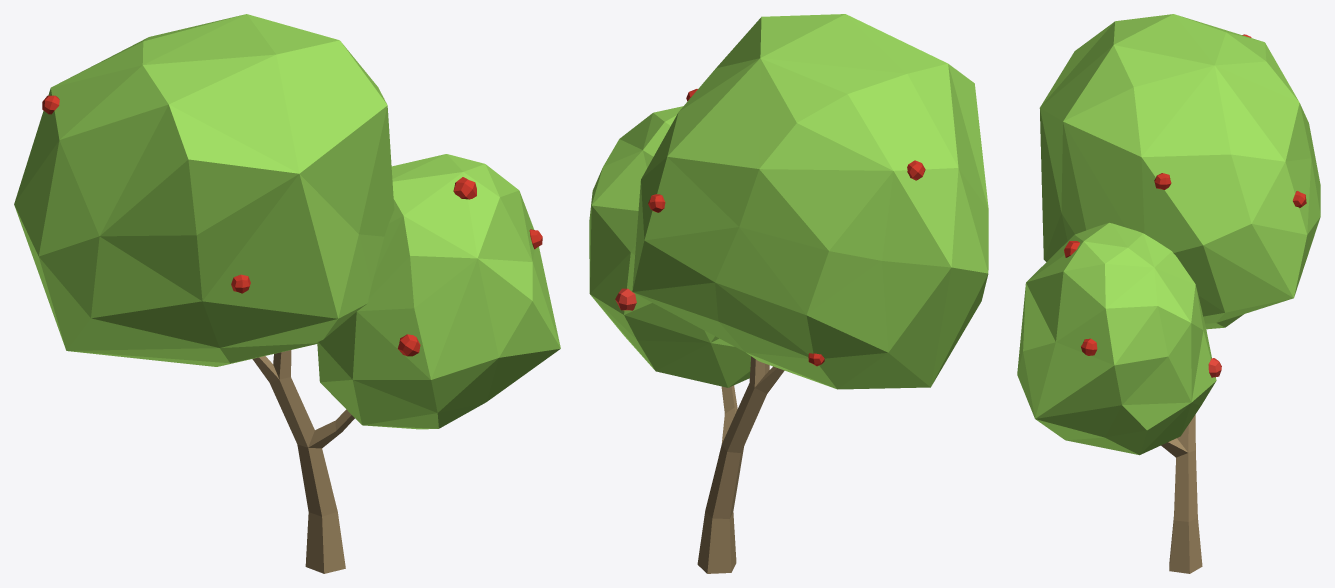
File: Apple_Tree_Apples_m_06_LOD.fbx
3 renders of one model, left to right at view 1: azimuth 30°, elevation 25°; view 2: azimuth 150°, elevation 25°; view 3: azimuth 270°, elevation 25°, orthographic. The views are drawn at different scales.
Visible parts, largest first — view 1: Apple_Tree_Apples_m_06_LOD0; view 2: Apple_Tree_Apples_m_06_LOD0; view 3: Apple_Tree_Apples_m_06_LOD0.
Part boxes in pixels (<box>): Apple_Tree_Apples_m_06_LOD0: <box>14,14,560,573</box>; Apple_Tree_Apples_m_06_LOD0: <box>589,14,988,573</box>; Apple_Tree_Apples_m_06_LOD0: <box>1017,14,1320,573</box>.
Size of what is drawn, in the model's own units: 620 by 736 by 419.
